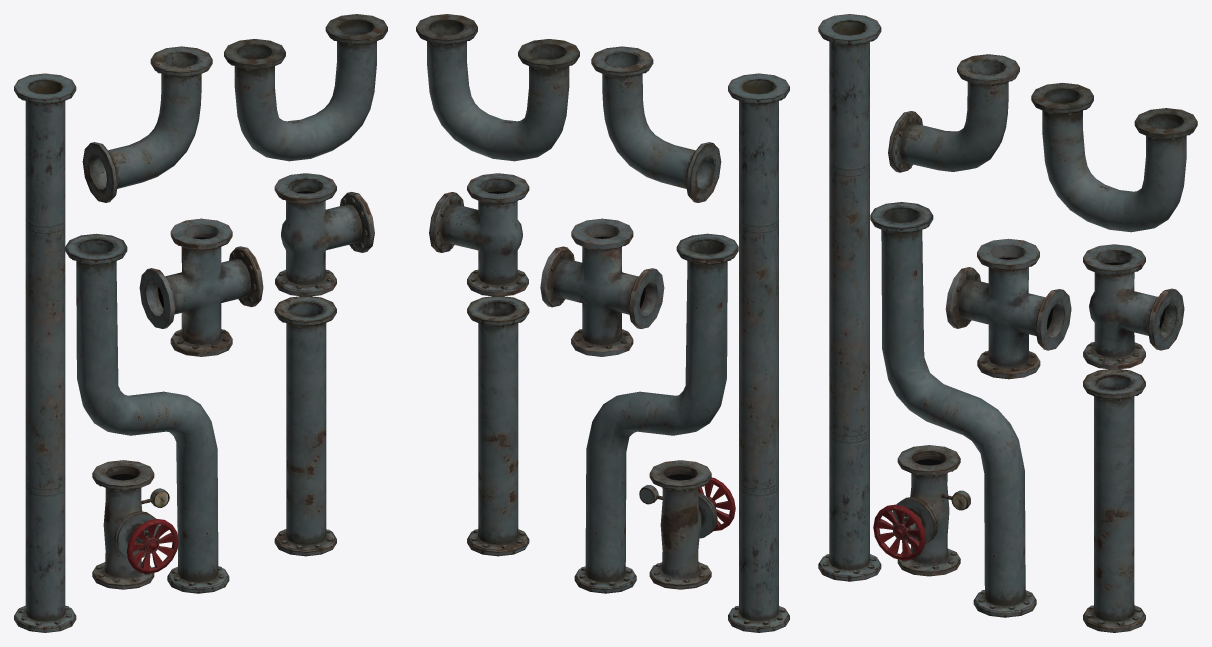
The model's file is modular_industrial_pipes_01.gltf.
3 renders of one model, left to right at view 1: azimuth 30°, elevation 25°; view 2: azimuth 150°, elevation 25°; view 3: azimuth 330°, elevation 25°, orthographic.
Visible parts, largest first — view 1: modular_industrial_pipes_01_pipe02, modular_industrial_pipes_01_pipe03, modular_industrial_pipes_01_pipe05, modular_industrial_pipes_01_pipe01, modular_industrial_pipes_01_pipe07, modular_industrial_pipes_01_pipe04, modular_industrial_pipes_01_pipe06, modular_industrial_pipes_01_pipe08; view 2: modular_industrial_pipes_01_pipe02, modular_industrial_pipes_01_pipe03, modular_industrial_pipes_01_pipe05, modular_industrial_pipes_01_pipe01, modular_industrial_pipes_01_pipe07, modular_industrial_pipes_01_pipe04, modular_industrial_pipes_01_pipe06, modular_industrial_pipes_01_pipe08; view 3: modular_industrial_pipes_01_pipe02, modular_industrial_pipes_01_pipe03, modular_industrial_pipes_01_pipe05, modular_industrial_pipes_01_pipe01, modular_industrial_pipes_01_pipe07, modular_industrial_pipes_01_pipe06, modular_industrial_pipes_01_pipe04, modular_industrial_pipes_01_pipe08.
Boxes of the visible parts, x1,y1,x2,y2 form: modular_industrial_pipes_01_pipe02: [14, 73, 76, 632]; modular_industrial_pipes_01_pipe03: [65, 233, 229, 593]; modular_industrial_pipes_01_pipe05: [224, 14, 387, 161]; modular_industrial_pipes_01_pipe01: [274, 296, 336, 556]; modular_industrial_pipes_01_pipe07: [139, 218, 263, 356]; modular_industrial_pipes_01_pipe04: [82, 46, 212, 202]; modular_industrial_pipes_01_pipe06: [274, 173, 374, 296]; modular_industrial_pipes_01_pipe08: [92, 460, 178, 589]; modular_industrial_pipes_01_pipe02: [728, 73, 789, 632]; modular_industrial_pipes_01_pipe03: [574, 233, 738, 593]; modular_industrial_pipes_01_pipe05: [416, 14, 579, 161]; modular_industrial_pipes_01_pipe01: [467, 296, 529, 556]; modular_industrial_pipes_01_pipe07: [540, 218, 664, 356]; modular_industrial_pipes_01_pipe04: [591, 46, 721, 202]; modular_industrial_pipes_01_pipe06: [429, 173, 529, 296]; modular_industrial_pipes_01_pipe08: [639, 460, 735, 589]; modular_industrial_pipes_01_pipe02: [818, 14, 881, 581]; modular_industrial_pipes_01_pipe03: [870, 202, 1036, 617]; modular_industrial_pipes_01_pipe05: [1031, 82, 1197, 232]; modular_industrial_pipes_01_pipe01: [1083, 369, 1145, 632]; modular_industrial_pipes_01_pipe07: [945, 238, 1071, 379]; modular_industrial_pipes_01_pipe06: [1083, 244, 1184, 369]; modular_industrial_pipes_01_pipe04: [888, 54, 1019, 172]; modular_industrial_pipes_01_pipe08: [873, 445, 970, 576].
Size of the model in its own units: 1.4 by 1.95 by 0.3075.
Materials: 2 (2 with a texture image).
